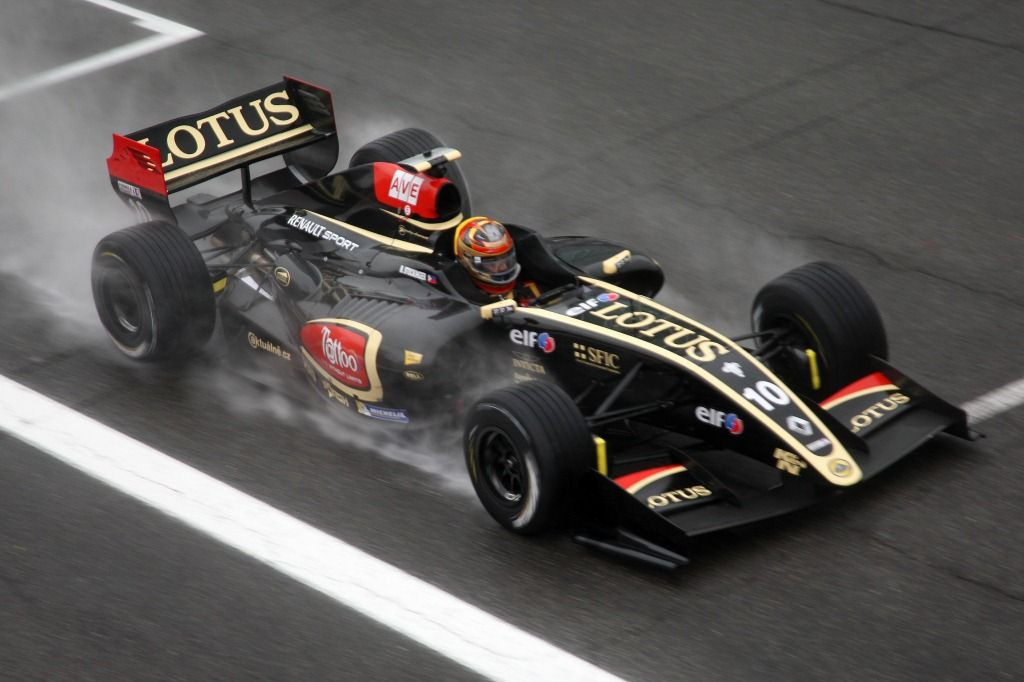f1_car: (80, 68, 1006, 595)
helmet: (448, 209, 536, 295)
